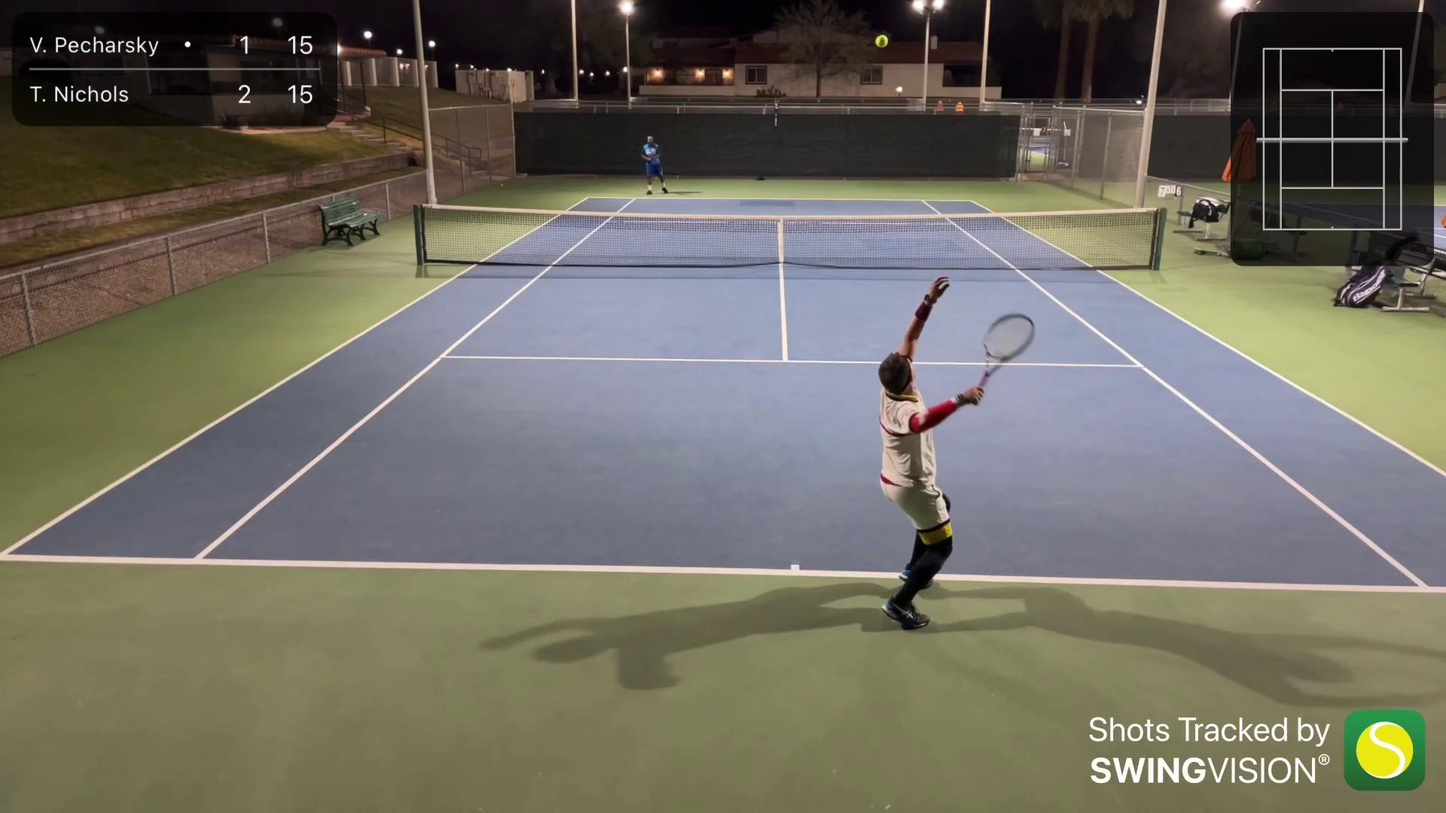ball: (874, 33, 891, 50)
